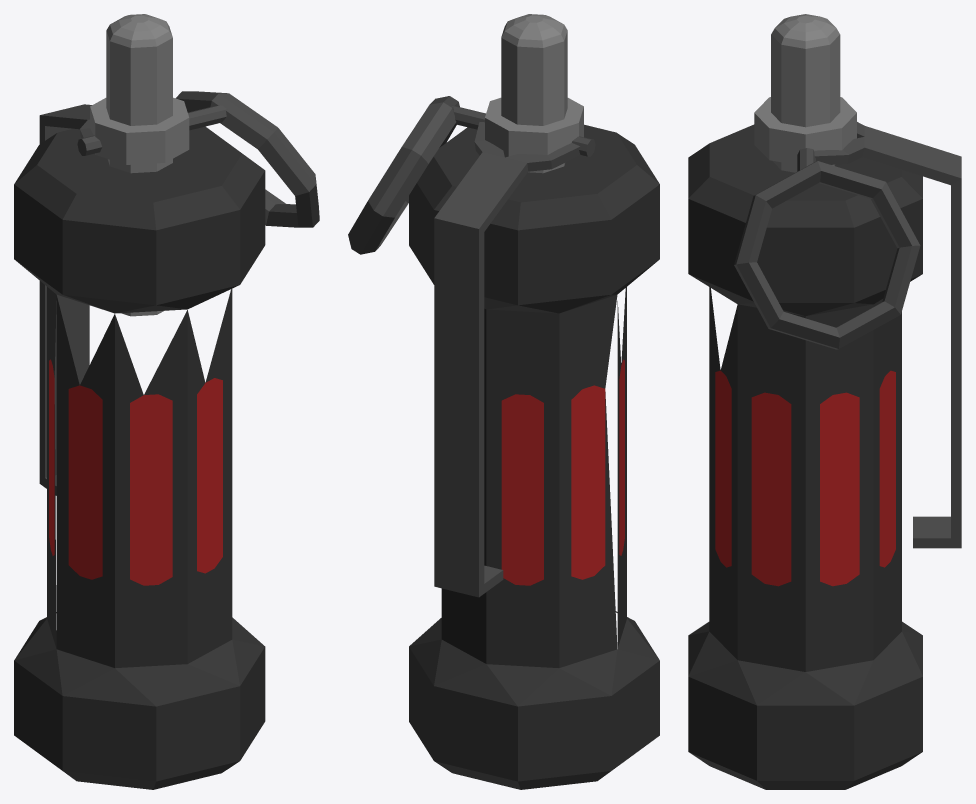
Rendered from Flashbang Grenade East.glb.
The picture shows the model from 3 angles, left to right: view 1: azimuth 30°, elevation 25°; view 2: azimuth 150°, elevation 25°; view 3: azimuth 270°, elevation 25°; orthographic projection.
Visible parts, largest first — view 1: Flashbang_East; view 2: Flashbang_East; view 3: Flashbang_East.
Boxes of the visible parts, box(x1,y1,x2,y2) form: Flashbang_East: box(14, 14, 319, 789); Flashbang_East: box(348, 14, 659, 789); Flashbang_East: box(688, 14, 961, 789).
Bounding box in the file's own units: 0.0579 × 0.1506 × 0.0511.
